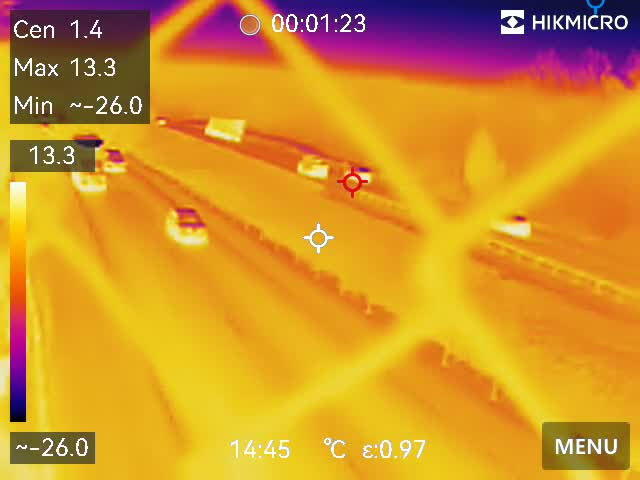heavyTruck: (70, 130, 107, 191), (202, 117, 254, 143)
vehicle: (162, 202, 217, 246), (490, 207, 540, 239), (293, 153, 334, 184), (104, 143, 131, 179), (345, 164, 375, 184)
